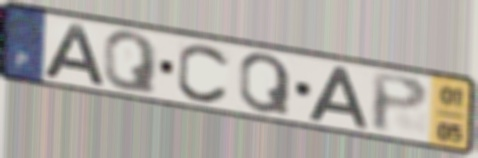A: (40, 21, 107, 87), (306, 64, 371, 131)
C: (175, 41, 233, 106)
P: (369, 70, 431, 136)
Q: (101, 29, 160, 97), (237, 52, 293, 118)
